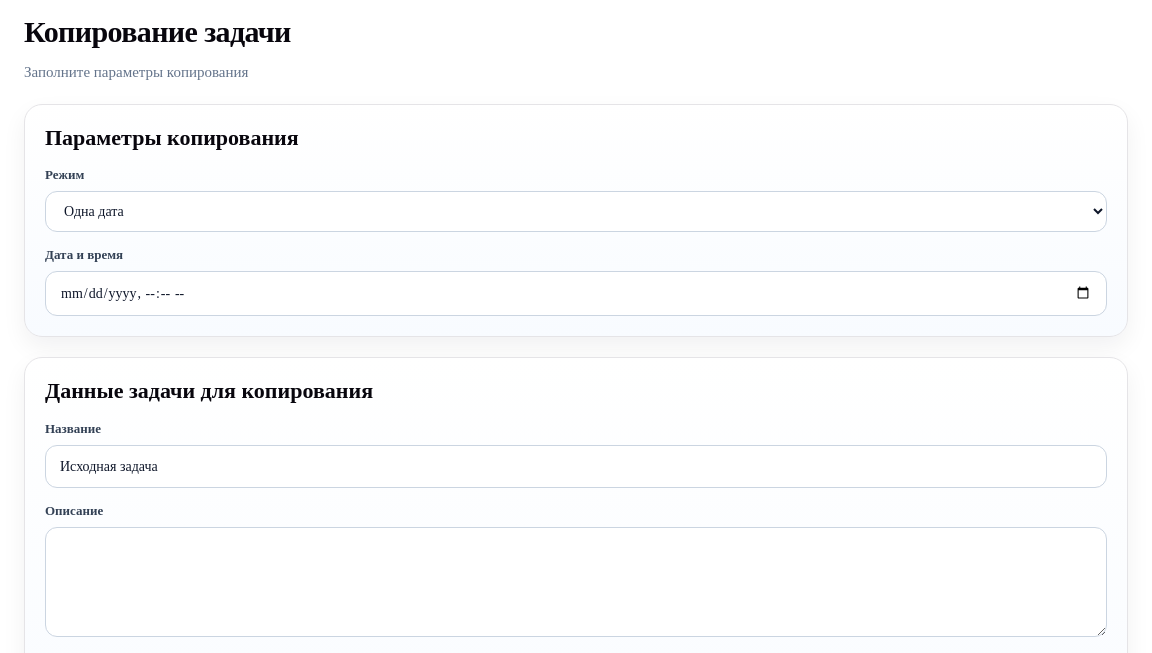
it: TaskCreate Component › отображает ошибку копирования, если не указан диапазон дат в режиме range
Select "Диапазон дат" in the dropdown labelled "Режим" at (576, 211), box [45,191,1107,232]
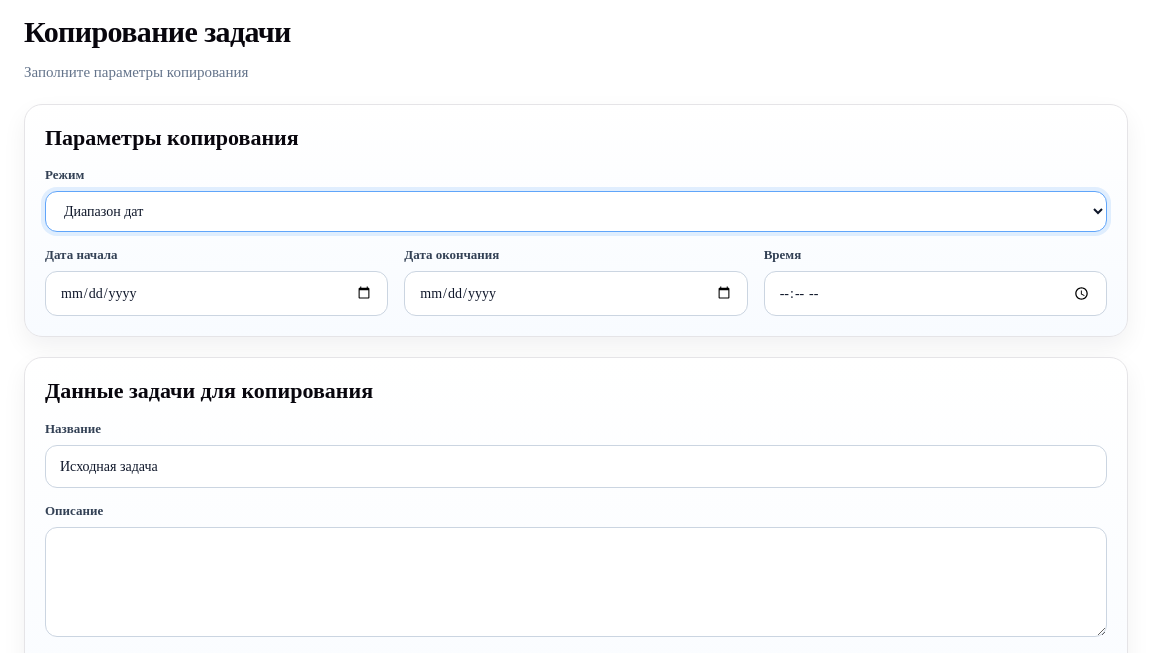
Clear the date field labelled "Дата начала" at (217, 294), box [45,271,388,316]
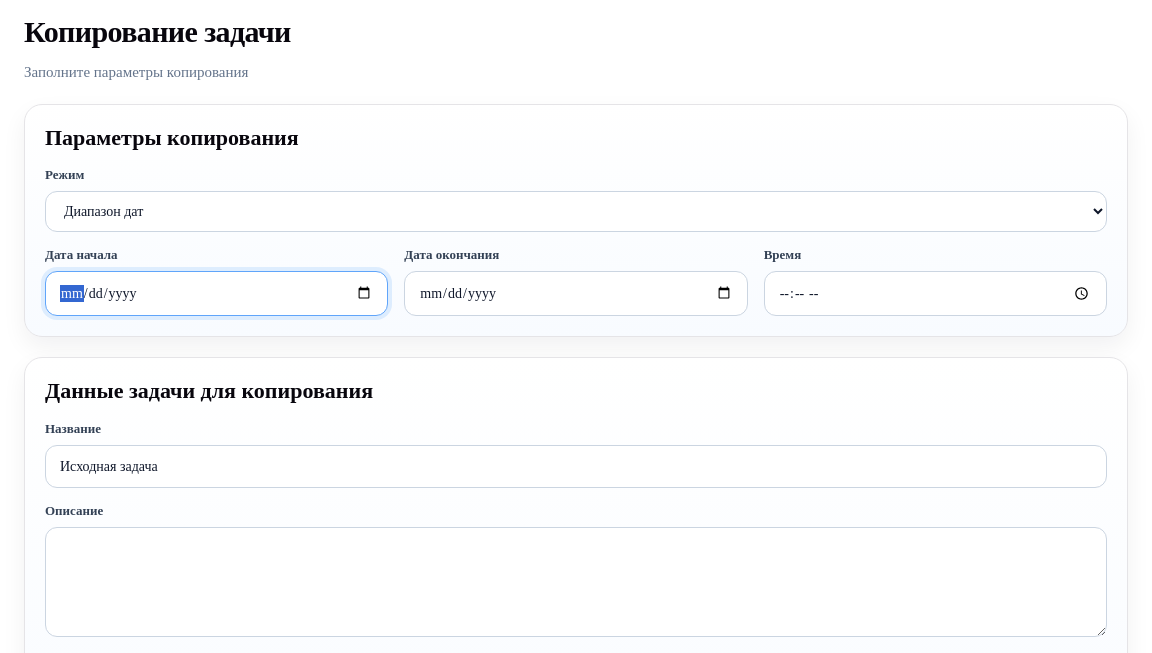
Clear the date field labelled "Дата окончания" at (576, 294), box [404,271,748,316]
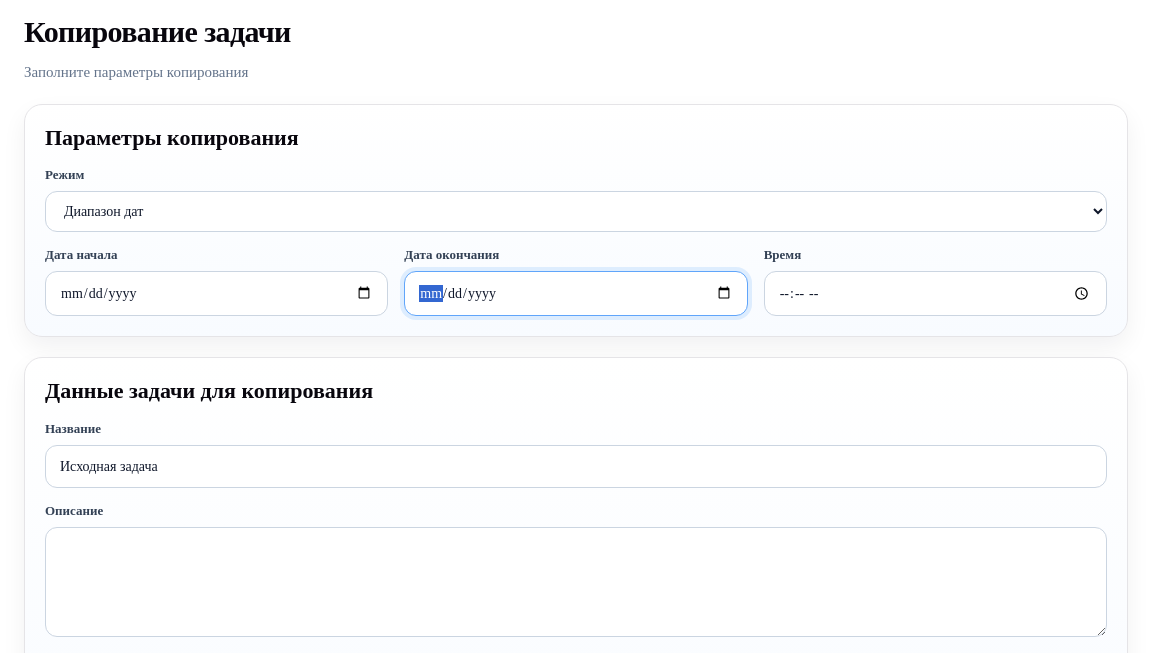
Type "09:00" into the time field labelled "Время" at (935, 294), box [764,271,1107,316]
(page scrolled)
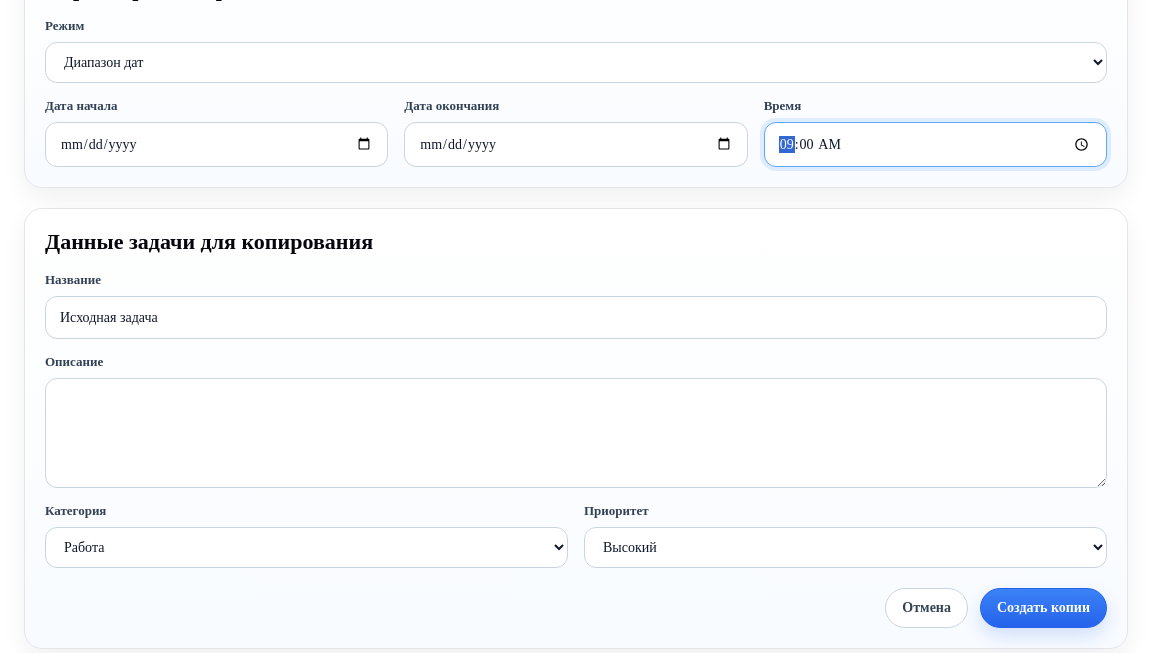
Click the button "Создать копии" at (1043, 608), box [980,588,1107,628]
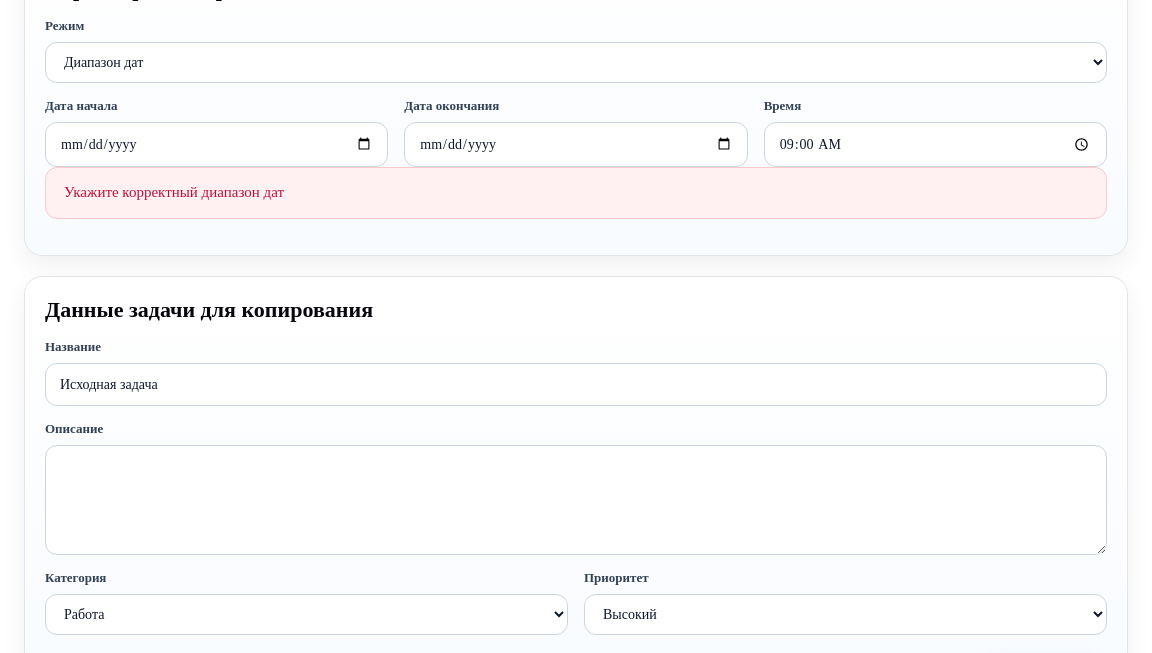
Check: the message reads "Укажите корректный диапазон дат", box [64,184,284,200]
